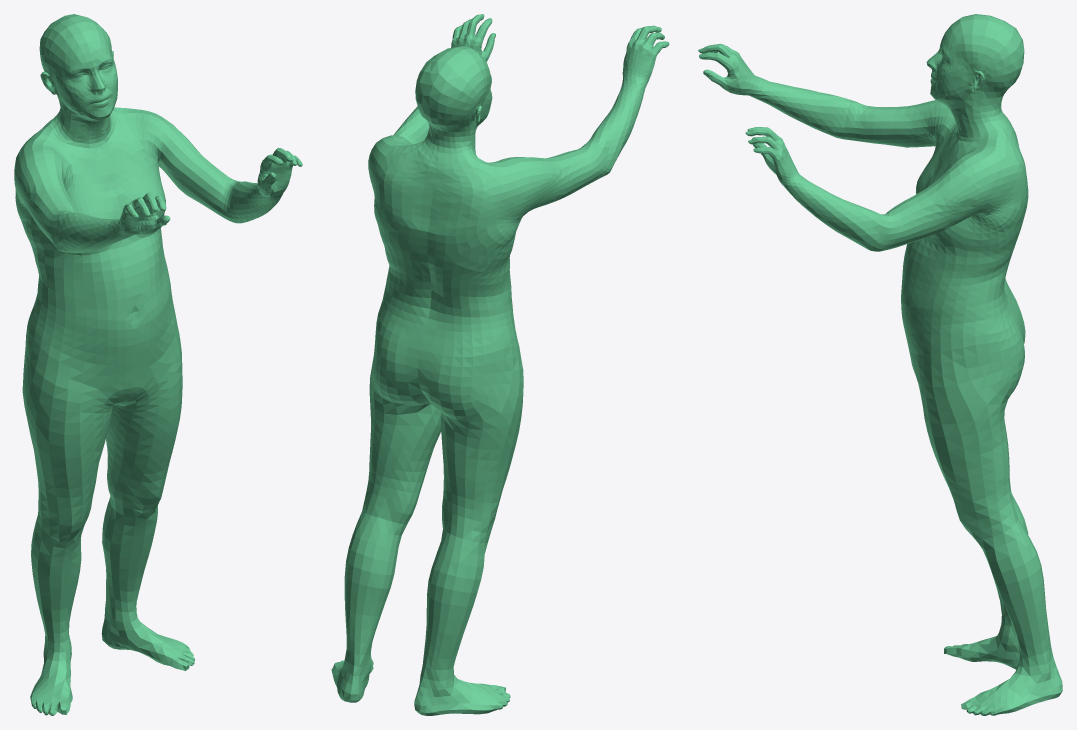
File: hwc_free_10.glb
3 views of the same model, side by side, from view 1: azimuth 30°, elevation 25°; view 2: azimuth 150°, elevation 25°; view 3: azimuth 270°, elevation 25° (orthographic). The views are drawn at different scales.
Parts seen in each view (by area): view 1: hwc_free; view 2: hwc_free; view 3: hwc_free.
Boxes of the visible parts, box(x1,y1,x2,y2) form: hwc_free: box(14, 14, 302, 715); hwc_free: box(331, 14, 669, 715); hwc_free: box(698, 14, 1062, 715).
Size of the model in its own units: 0.5675 by 1.7 by 0.8615.
